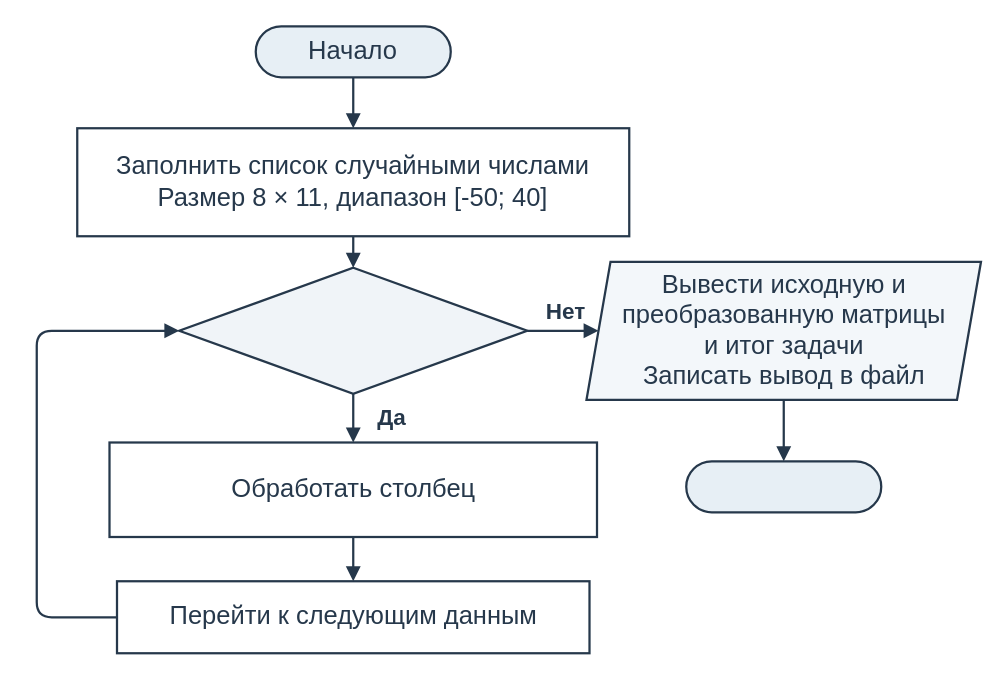
Image size: 1008x681. Some labels were removed from this diagram. The shapes that lost their labels are listed below. From the top down, each one's centre as x and y in pixels, then its label:
At point 352,330: "Остались данные для обработки?".
At point 783,486: "Конец".
